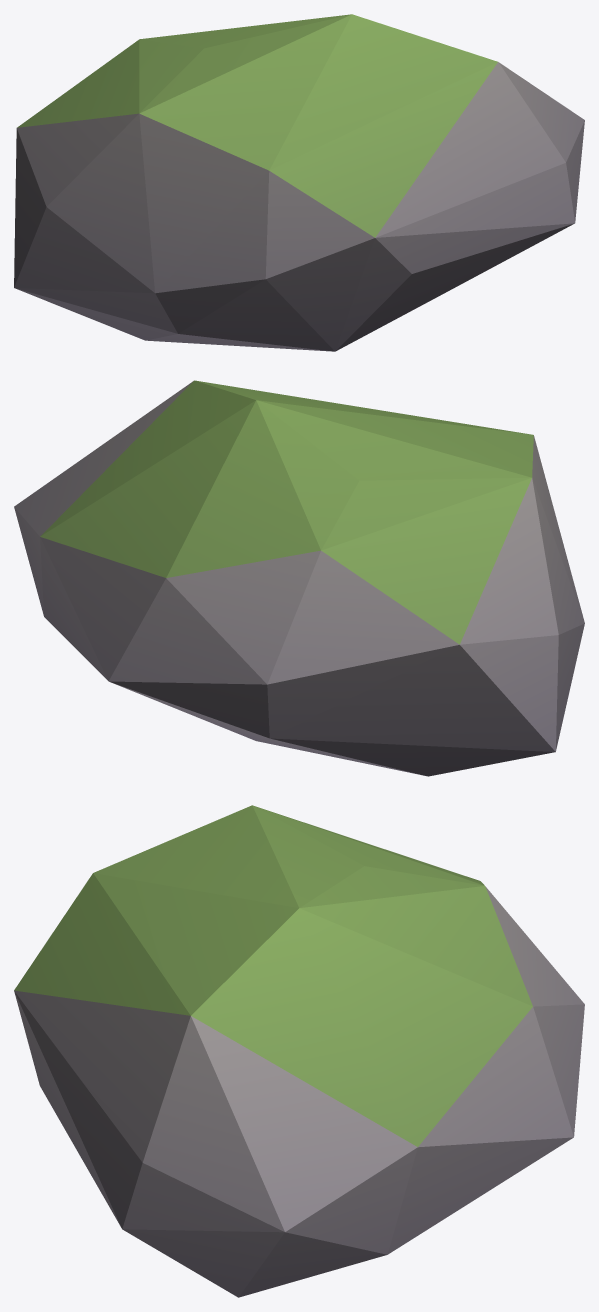
The model's file is rock_e.glb.
3 renders of one model, top to bottom at view 1: azimuth 30°, elevation 25°; view 2: azimuth 150°, elevation 25°; view 3: azimuth 270°, elevation 25°, orthographic. The views are drawn at different scales.
Parts seen in each view (by area): view 1: rock_e; view 2: rock_e; view 3: rock_e.
Boxes of the visible parts, left/top/right/bottom form: rock_e: left=14, top=14, right=584, bottom=351; rock_e: left=14, top=380, right=584, bottom=776; rock_e: left=14, top=805, right=584, bottom=1297.
Bounding box in the file's own units: 2.3 × 1.07 × 1.76.
